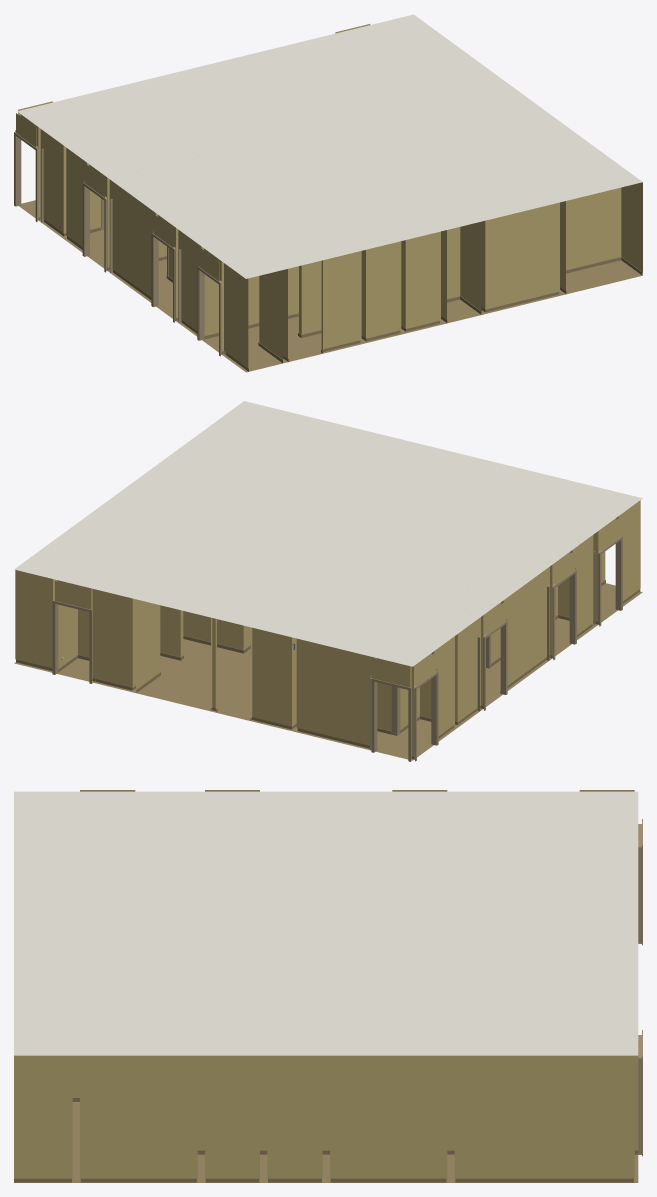
File: chunk_5_3.glb
3 renders of one model, top to bottom at view 1: azimuth 30°, elevation 25°; view 2: azimuth 150°, elevation 25°; view 3: azimuth 270°, elevation 25°, orthographic. The views are drawn at different scales.
Visible parts, largest first — view 1: chunk_5_3; view 2: chunk_5_3; view 3: chunk_5_3.
Boxes of the visible parts, x1=… form: chunk_5_3: x1=14, y1=14, x2=642, y2=372; chunk_5_3: x1=14, y1=401, x2=642, y2=761; chunk_5_3: x1=14, y1=790, x2=642, y2=1182.
Size of the model in its own units: 12.09 by 2.7 by 12.09.
